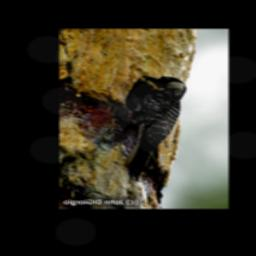Woodpecker: (112, 74, 187, 183)
